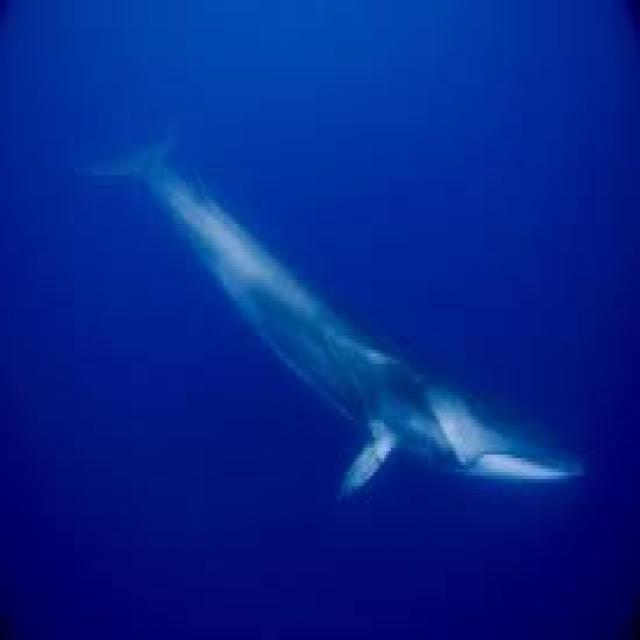blue_whale: (104, 115, 624, 577)
